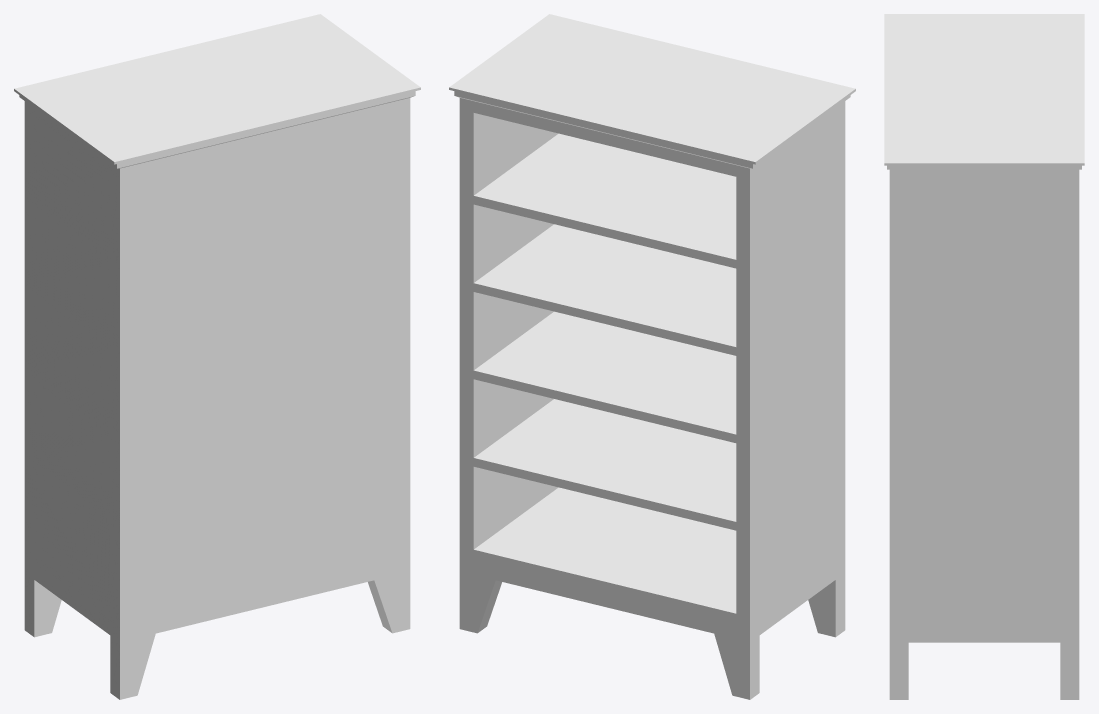
The model's file is Mueble4.fbx.
The picture shows the model from 3 angles, left to right: view 1: azimuth 30°, elevation 25°; view 2: azimuth 150°, elevation 25°; view 3: azimuth 270°, elevation 25°; orthographic projection.
Visible parts, largest first — view 1: pCube6; view 2: pCube6; view 3: pCube6.
Part boxes in pixels (box(x1,y1,x2,y2)): pCube6: box(14, 14, 420, 699); pCube6: box(449, 14, 855, 699); pCube6: box(884, 14, 1084, 699).
Size of the model in its own units: 9.22 by 15.57 by 5.23.
